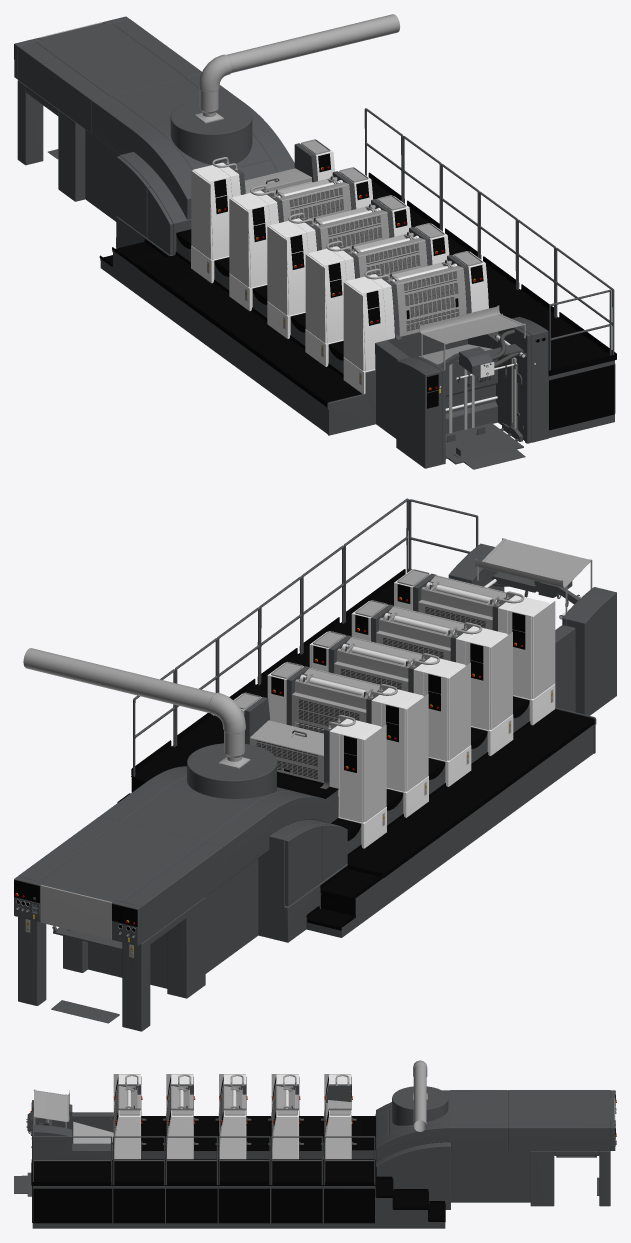
The picture shows the model from 3 angles, top to bottom: view 1: azimuth 30°, elevation 25°; view 2: azimuth 150°, elevation 25°; view 3: azimuth 270°, elevation 25°; orthographic projection. The views are drawn at different scales.
Parts seen in each view (by area): view 1: SM_MR500_back, SM_MR500_front, SM_MR500_middle3, SM_MR500_middle2, SM_MR500_middle0, SM_MR500_middle1; view 2: SM_MR500_back, SM_MR500_middle0, SM_MR500_front, SM_MR500_middle3, SM_MR500_middle2, SM_MR500_middle1; view 3: SM_MR500_back, SM_MR500_front, SM_MR500_middle0, SM_MR500_middle3, SM_MR500_middle2, SM_MR500_middle1.
Boxes of the visible parts, x1,y1,x2,y2 form: SM_MR500_back: (14, 14, 404, 323); SM_MR500_front: (327, 247, 616, 469); SM_MR500_middle3: (290, 219, 555, 433); SM_MR500_middle2: (252, 191, 519, 406); SM_MR500_middle0: (176, 136, 441, 351); SM_MR500_middle1: (214, 163, 481, 378); SM_MR500_back: (14, 648, 426, 1031); SM_MR500_middle0: (175, 638, 468, 876); SM_MR500_front: (343, 498, 616, 753); SM_MR500_middle3: (299, 545, 594, 783); SM_MR500_middle2: (257, 576, 552, 814); SM_MR500_middle1: (217, 607, 510, 845); SM_MR500_back: (321, 1060, 616, 1228); SM_MR500_front: (14, 1089, 113, 1228); SM_MR500_middle0: (268, 1074, 324, 1228); SM_MR500_middle3: (110, 1074, 166, 1228); SM_MR500_middle2: (163, 1074, 218, 1228); SM_MR500_middle1: (216, 1074, 271, 1228).
Bounding box in the file's own units: 4.31 × 2.66 × 11.23.
